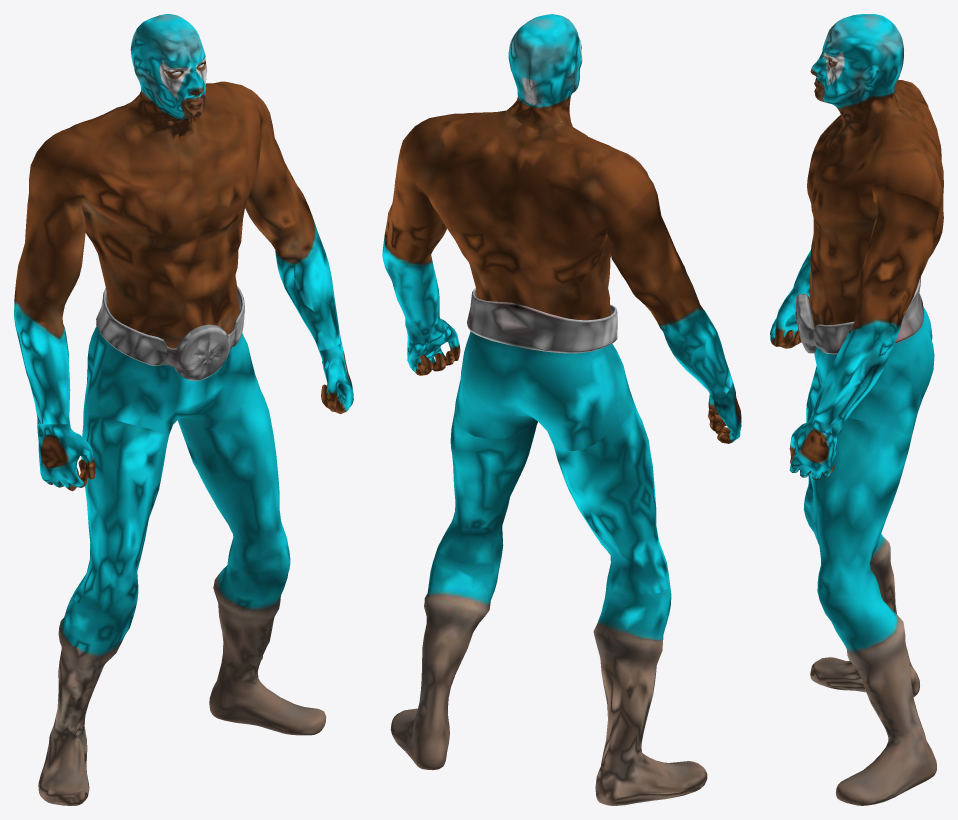
Rendered from hombre_eyeholes.glb.
The picture shows the model from 3 angles, left to right: view 1: azimuth 30°, elevation 25°; view 2: azimuth 150°, elevation 25°; view 3: azimuth 270°, elevation 25°; orthographic projection. The views are drawn at different scales.
Parts seen in each view (by area): view 1: hombre_eyeholes; view 2: hombre_eyeholes; view 3: hombre_eyeholes.
Part boxes in pixels (<box>): hombre_eyeholes: <box>14,14,353,805</box>; hombre_eyeholes: <box>382,14,741,805</box>; hombre_eyeholes: <box>770,14,943,805</box>.
Size of the model in its own units: 0.9134 by 2.05 by 0.4482.
3 materials, 2 textured.
